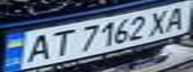1: (97, 19, 118, 47)
2: (127, 11, 154, 42)
6: (112, 16, 136, 45)
7: (75, 21, 100, 53)
A: (15, 32, 57, 63), (160, 3, 193, 33)
T: (42, 27, 78, 58)
Y: (145, 7, 175, 36)
